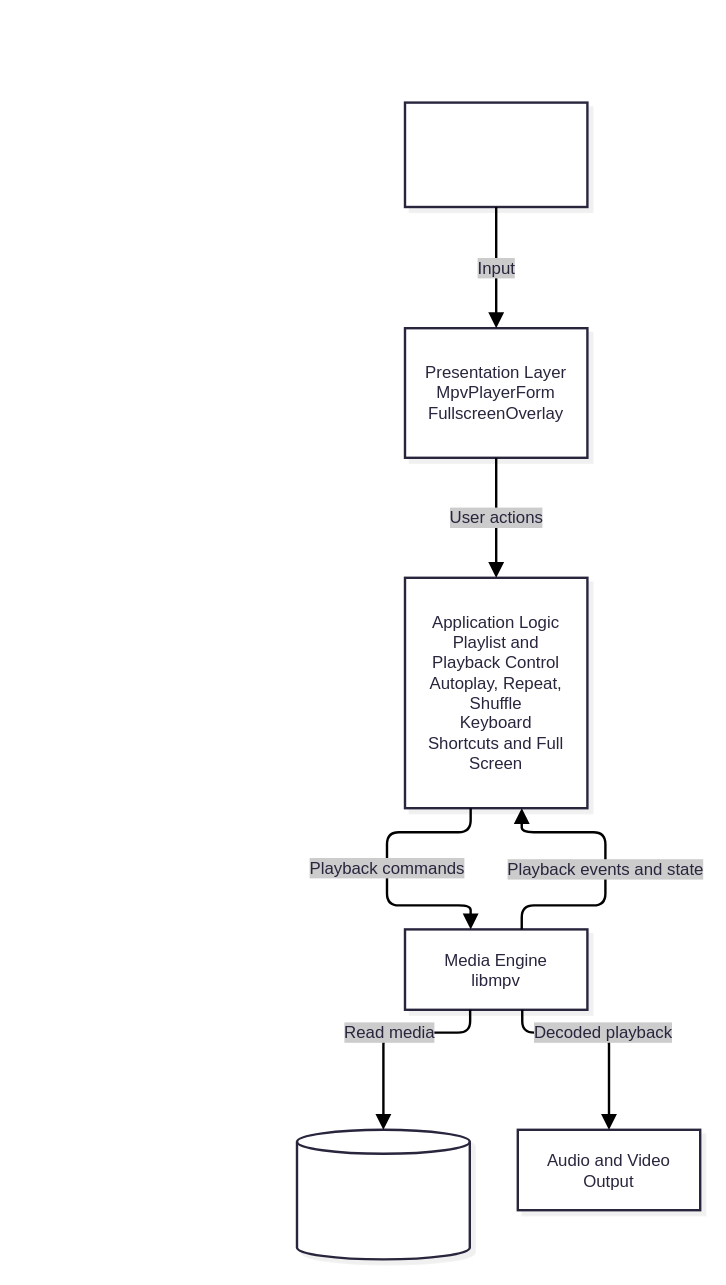
This 726x1285 diagram has some shape labels left out. Here are the shapes that lost their labels. From the top down, the centre of each, then its label:
At (x=498, y=156): "User Keyboard and Mouse".
At (x=385, y=1196): "Local Media Files MP3 / MP4".
